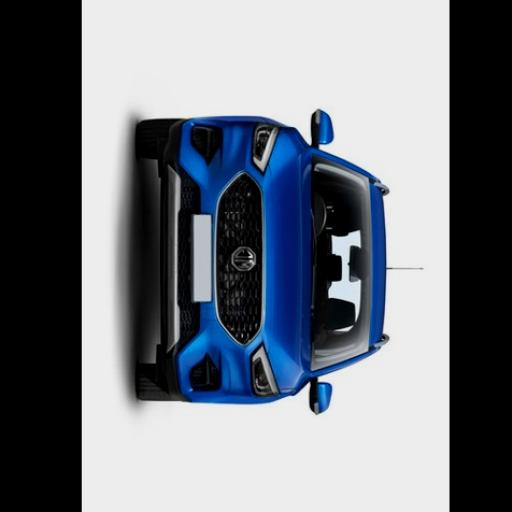suv: (136, 111, 388, 413)
